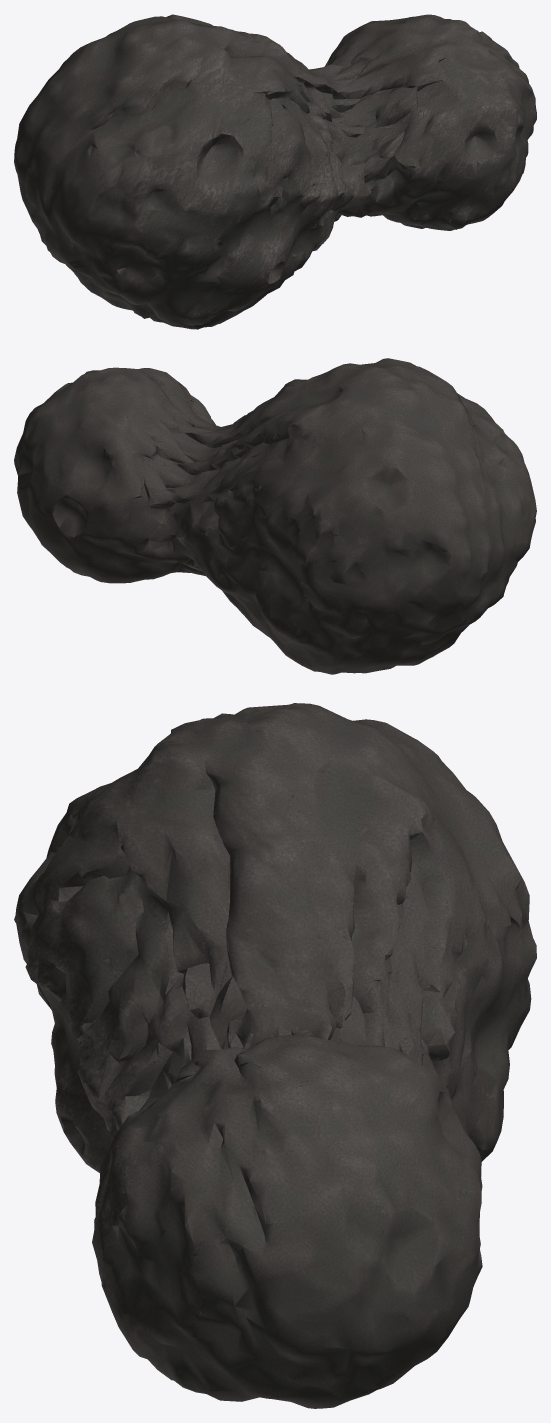
The model's file is carbonaceous_asteroid_05_bilobed.glb.
3 views of the same model, one above another, from view 1: azimuth 30°, elevation 25°; view 2: azimuth 150°, elevation 25°; view 3: azimuth 270°, elevation 25° (orthographic). The views are drawn at different scales.
Parts seen in each view (by area): view 1: mesh_node; view 2: mesh_node; view 3: mesh_node.
Part boxes in pixels (x1=…): mesh_node: x1=14, y1=14, x2=536, y2=329; mesh_node: x1=14, y1=358, x2=536, y2=674; mesh_node: x1=14, y1=703, x2=536, y2=1408.
Size of the model in its own units: 2 by 1.18 by 1.08.
1 material, 1 textured.
